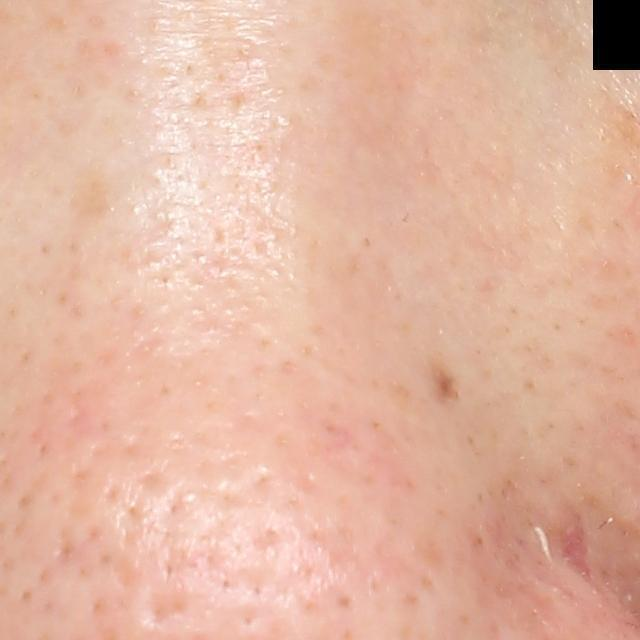atrophic_scar: (558, 510, 598, 593), (132, 586, 196, 629)
nevus: (434, 364, 465, 409)
